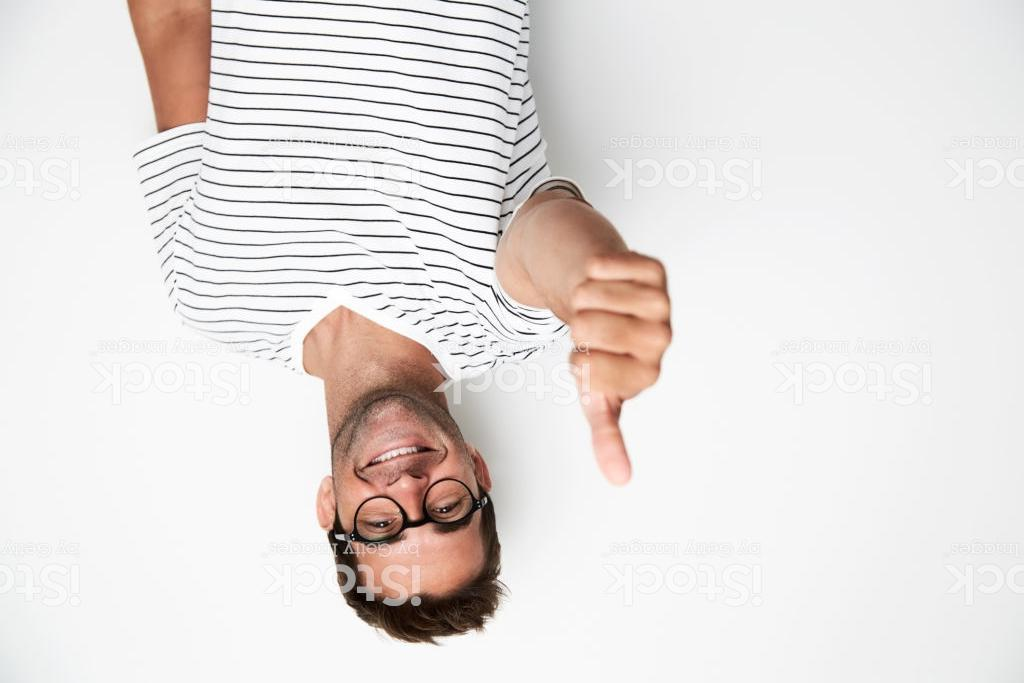thumbsdown: (567, 247, 676, 489)
